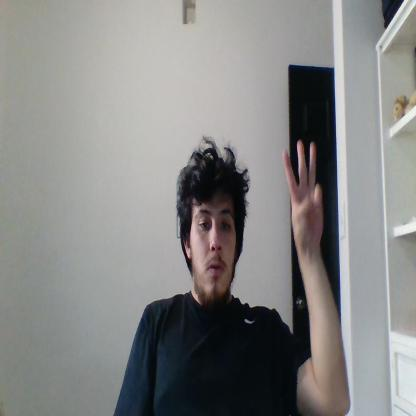W: (283, 137, 324, 248)
